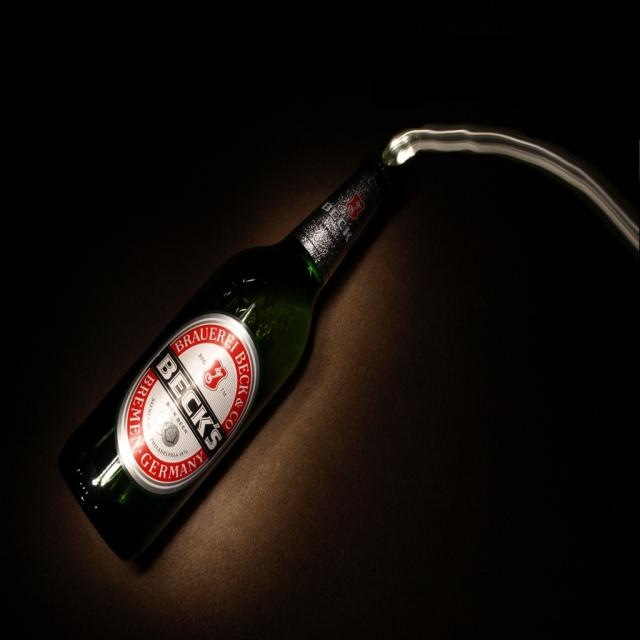becks: (117, 313, 260, 496)
